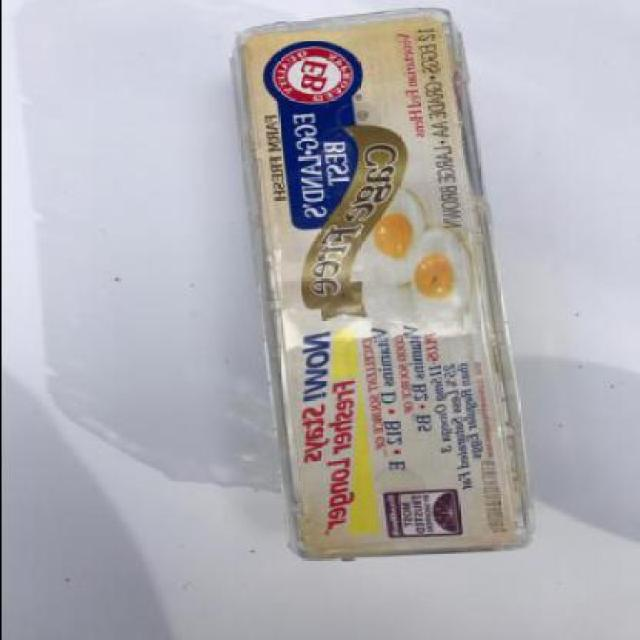PLASTIC: (227, 3, 531, 560)
